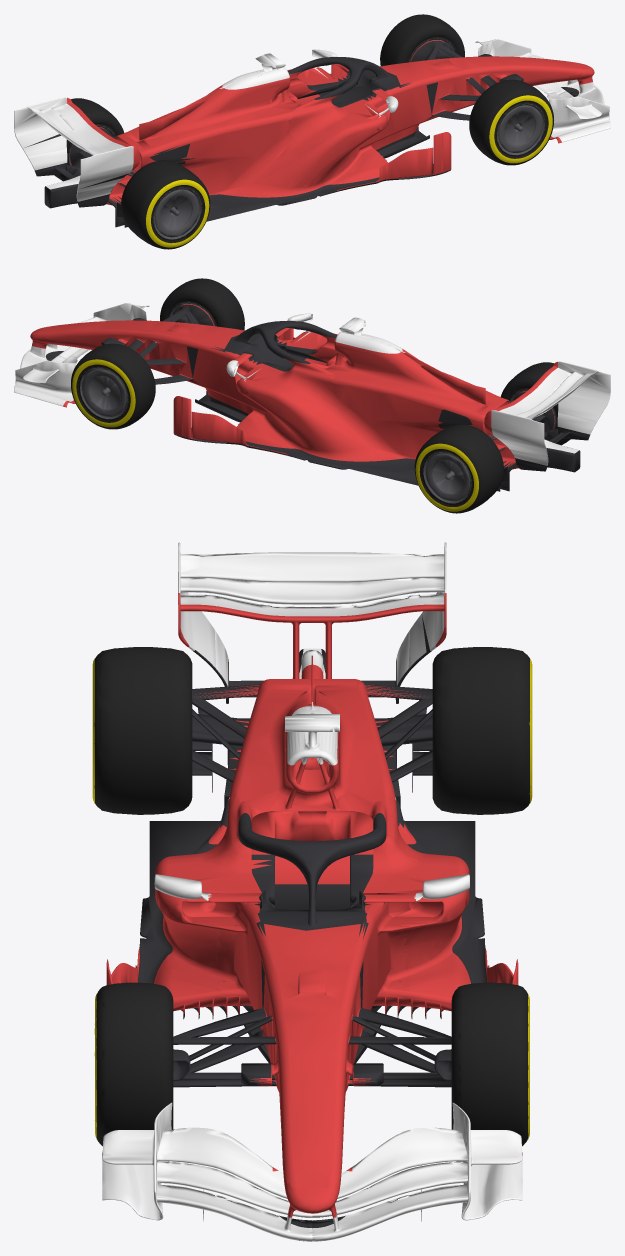
Rendered from f1-car-piezas.glb.
3 views of the same model, one above another, from view 1: azimuth 30°, elevation 25°; view 2: azimuth 150°, elevation 25°; view 3: azimuth 270°, elevation 25° (orthographic). The views are drawn at different scales.
Visible parts, largest first — view 1: chasis, tapa_motor, pontones, ala_trasera, wheel_RR, wheel_FR, ala_delantera, suelo, wheel_FL, wheel_RL, band_FR, band_RR; view 2: chasis, tapa_motor, pontones, ala_trasera, wheel_RL, wheel_FL, ala_delantera, suelo, wheel_FR, wheel_RR, band_FL, band_RL; view 3: chasis, ala_delantera, ala_trasera, tapa_motor, pontones, wheel_RL, wheel_RR, wheel_FR, wheel_FL, suelo.
Part boxes in pixels (x1=…): chasis: x1=28, y1=39, x2=595, y2=226; tapa_motor: x1=73, y1=55, x2=293, y2=176; pontones: x1=210, y1=55, x2=442, y2=206; ala_trasera: x1=14, y1=97, x2=133, y2=204; wheel_RR: x1=121, y1=160, x2=210, y2=249; wheel_FR: x1=469, y1=79, x2=553, y2=165; ala_delantera: x1=475, y1=39, x2=610, y2=143; suelo: x1=116, y1=127, x2=450, y2=227; wheel_FL: x1=380, y1=14, x2=464, y2=65; wheel_RL: x1=54, y1=98, x2=124, y2=181; band_FR: x1=489, y1=95, x2=552, y2=163; band_RR: x1=146, y1=179, x2=209, y2=247; chasis: x1=29, y1=303, x2=596, y2=491; tapa_motor: x1=330, y1=319, x2=551, y2=440; pontones: x1=181, y1=319, x2=414, y2=469; ala_trasera: x1=491, y1=361, x2=610, y2=468; wheel_RL: x1=414, y1=424, x2=503, y2=513; wheel_FL: x1=71, y1=343, x2=155, y2=429; ala_delantera: x1=14, y1=303, x2=149, y2=407; suelo: x1=174, y1=391, x2=507, y2=491; wheel_FR: x1=160, y1=278, x2=244, y2=329; wheel_RR: x1=500, y1=362, x2=570, y2=445; band_FL: x1=72, y1=359, x2=135, y2=427; band_RL: x1=415, y1=443, x2=478, y2=511; chasis: x1=107, y1=590, x2=517, y2=1188; ala_delantera: x1=102, y1=1117, x2=522, y2=1241; ala_trasera: x1=178, y1=542, x2=446, y2=714; tapa_motor: x1=192, y1=604, x2=432, y2=805; pontones: x1=106, y1=842, x2=518, y2=1014; wheel_RL: x1=432, y1=647, x2=530, y2=814; wheel_RR: x1=94, y1=647, x2=192, y2=814; wheel_FR: x1=96, y1=982, x2=173, y2=1146; wheel_FL: x1=451, y1=982, x2=528, y2=1146; suelo: x1=138, y1=759, x2=486, y2=1063.
Bounding box in the file's own units: 5.39 × 1.1 × 1.88.
